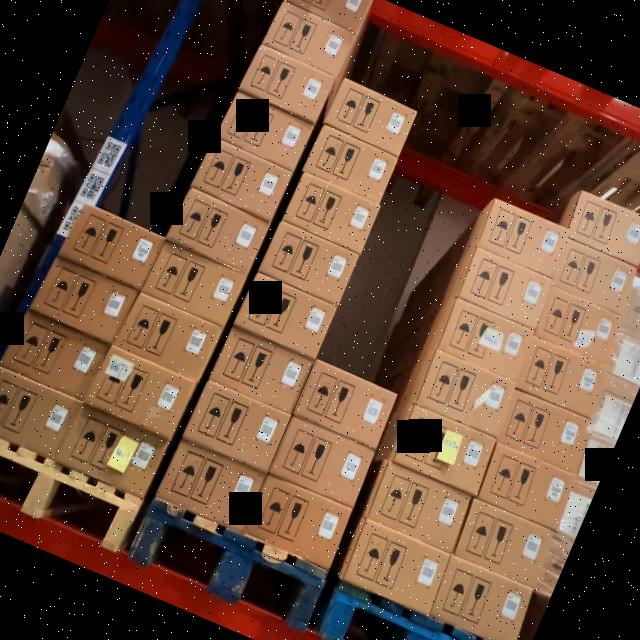box: (152, 438, 268, 532), (242, 474, 353, 572), (58, 401, 170, 496), (114, 292, 223, 388), (180, 380, 291, 474), (390, 406, 500, 500), (341, 517, 452, 609), (59, 200, 170, 292), (32, 250, 139, 344), (2, 306, 110, 399), (363, 461, 472, 553), (293, 360, 398, 452), (414, 347, 520, 438), (86, 342, 192, 432), (208, 324, 312, 415), (166, 187, 272, 276), (269, 420, 373, 510), (433, 297, 538, 386), (452, 493, 556, 582), (471, 195, 574, 284), (472, 440, 574, 528), (281, 170, 382, 258), (494, 386, 594, 474), (431, 553, 532, 640), (233, 275, 336, 359), (256, 223, 355, 307), (215, 92, 314, 175), (144, 236, 242, 319), (191, 136, 289, 218), (456, 247, 556, 327), (260, 2, 358, 83), (238, 44, 336, 124), (534, 283, 626, 366), (517, 333, 610, 414), (302, 124, 393, 200), (0, 367, 76, 457), (325, 77, 415, 151), (565, 189, 640, 269), (554, 240, 636, 310), (283, 0, 374, 36)
